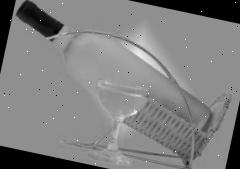glass: (82, 77, 150, 167)
